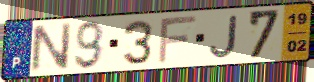3: (122, 18, 155, 66)
7: (246, 8, 282, 61)
9: (74, 19, 108, 71)
F: (156, 14, 200, 66)
J: (208, 13, 240, 60)
N: (29, 20, 74, 74)
